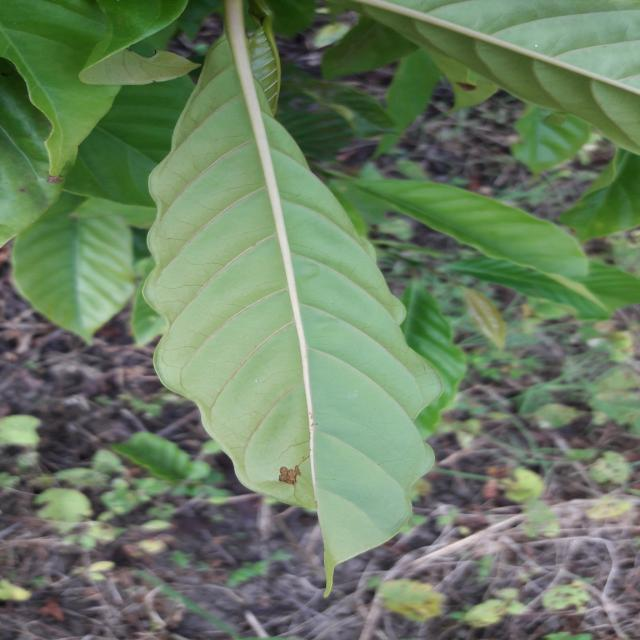Sanas: (132, 0, 463, 591)
